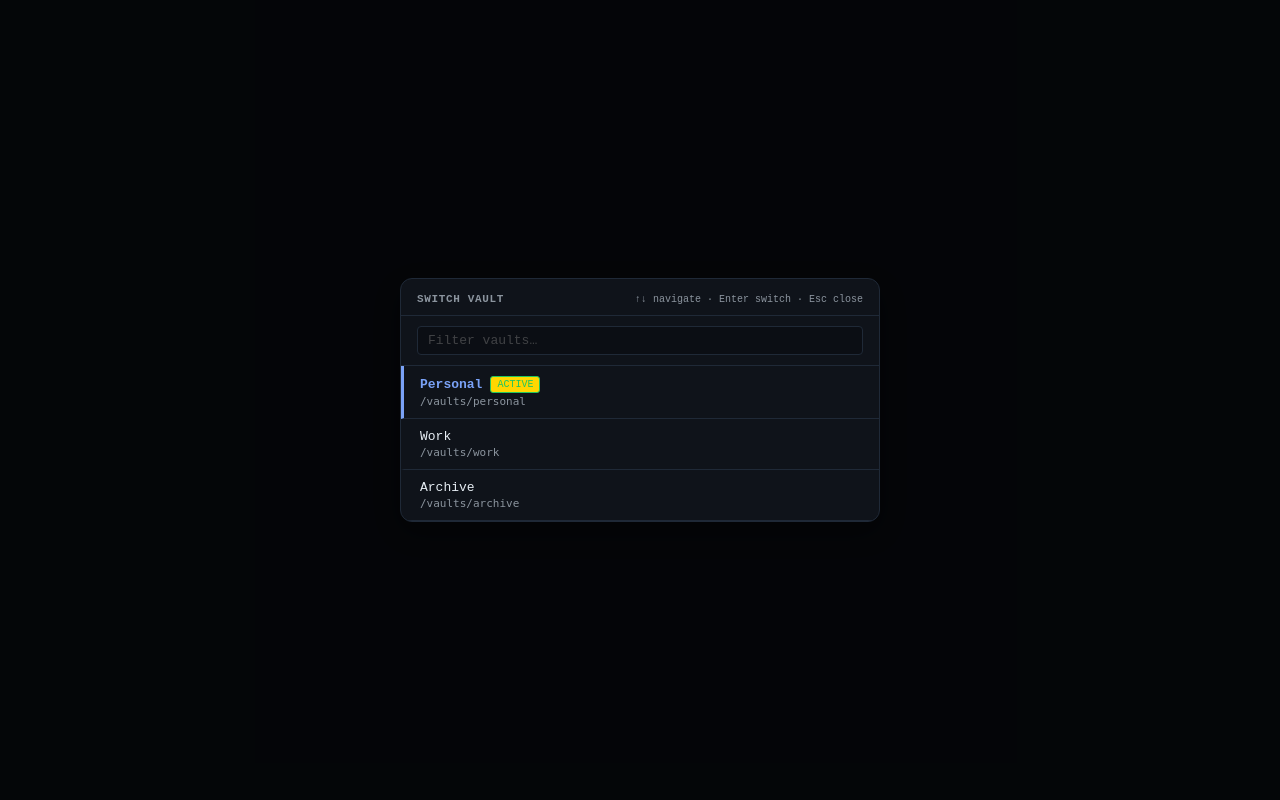
Test case: VaultSwitcher › filters the vault list by name as the user types
Type "wo" into the field with placeholder "Filter vaults…".
click(640, 340); type("wo")  # box [417,326,863,355]
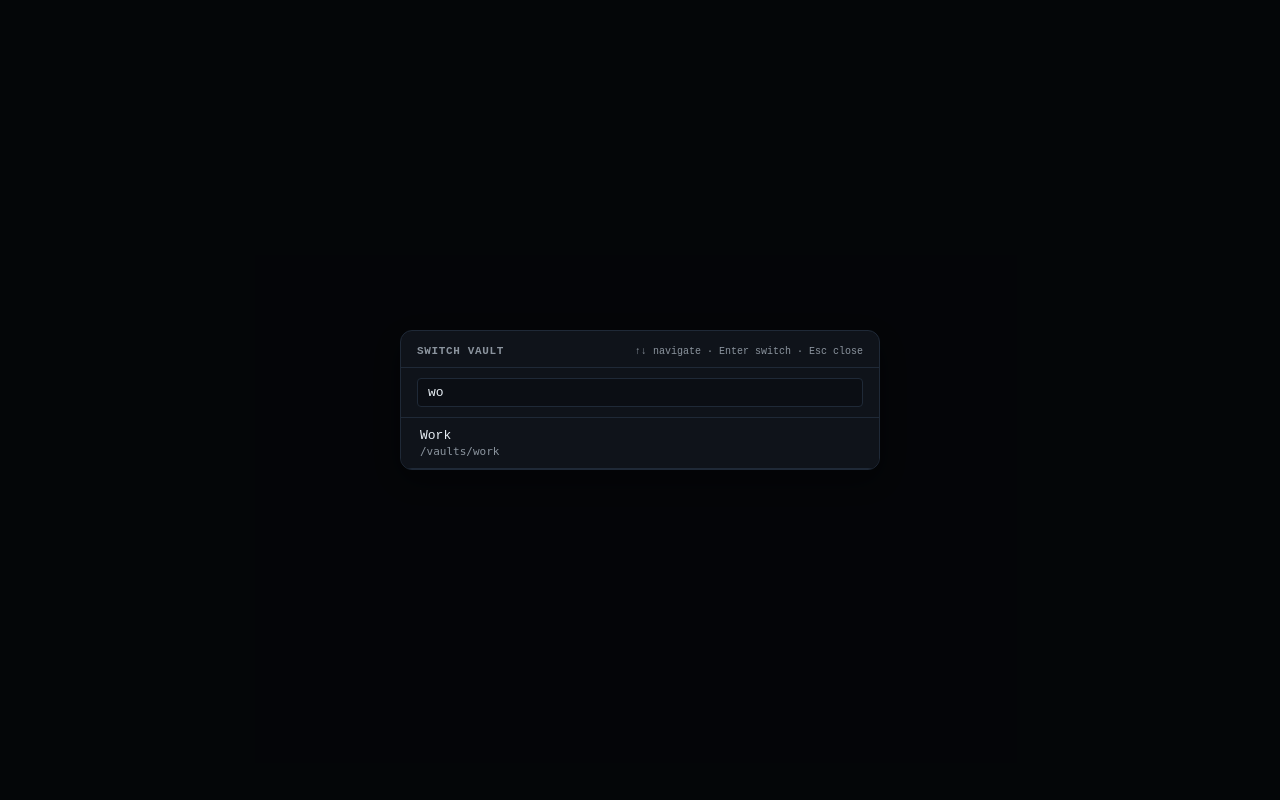
Expected: the text "Work" is shown, [420,428,451,443]
Now the text "Personal" is gone
Now the text "Archive" is gone
